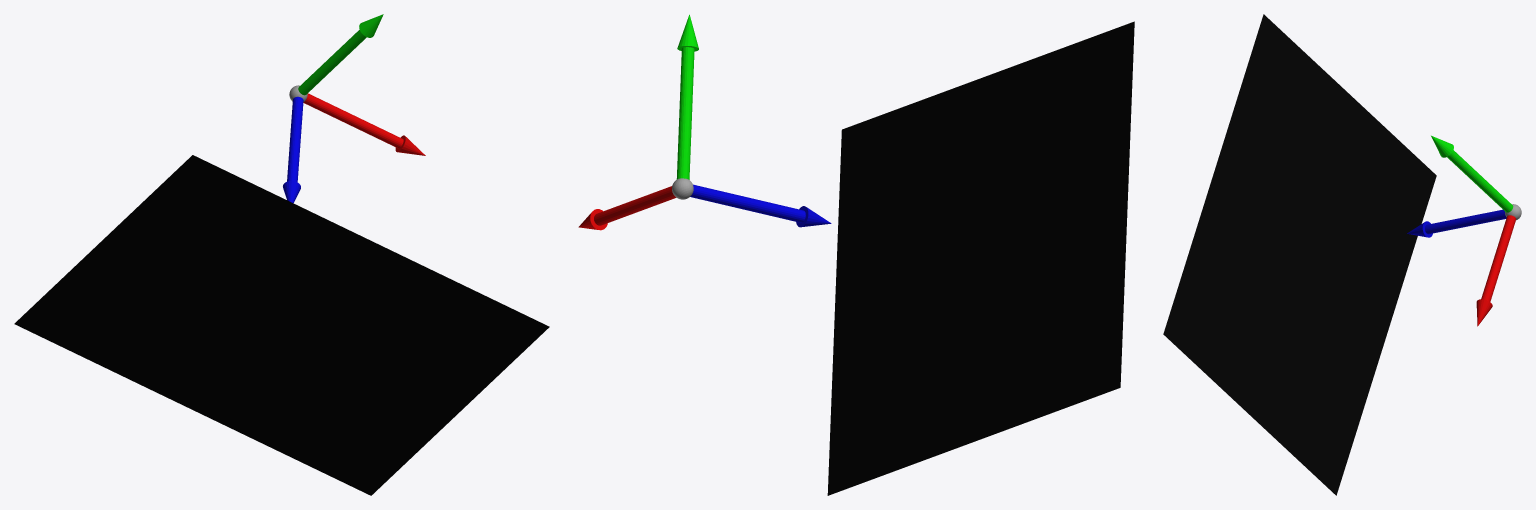
3 renders of one model, left to right at view 1: azimuth 30°, elevation 25°; view 2: azimuth 150°, elevation 25°; view 3: azimuth 270°, elevation 25°, orthographic. The views are drawn at different scales.
Size of the model in its own units: 0.4083 by 0.3846 by 0.321.
